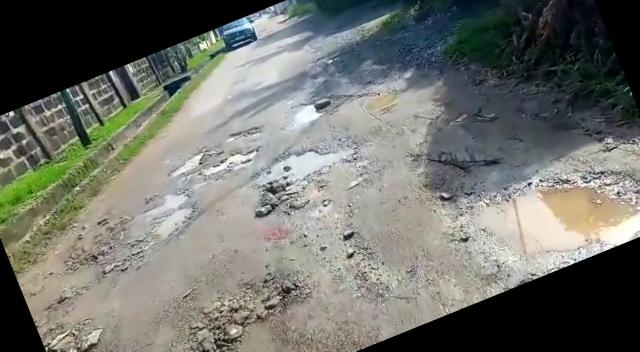pothole: (438, 135, 640, 300), (253, 130, 354, 190), (195, 142, 262, 184), (278, 95, 330, 133), (165, 148, 214, 179), (356, 85, 403, 116)
